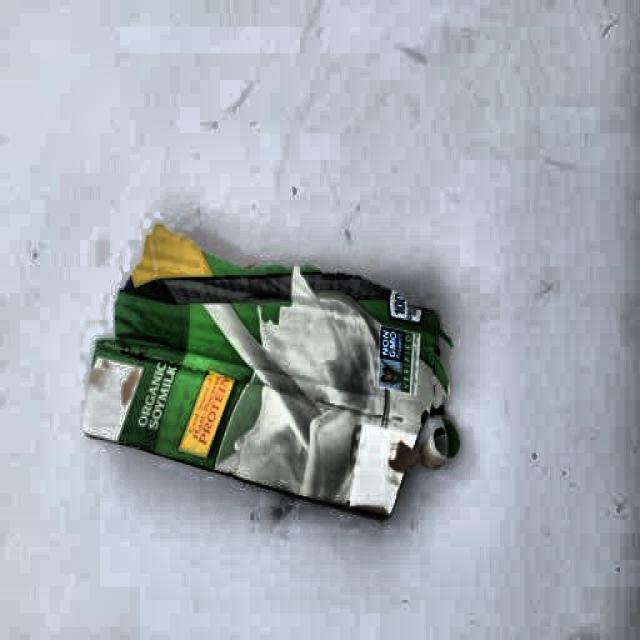cardboard: (79, 223, 454, 520)
